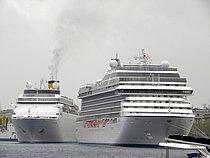Ship: (69, 50, 202, 150), (10, 76, 84, 145)
